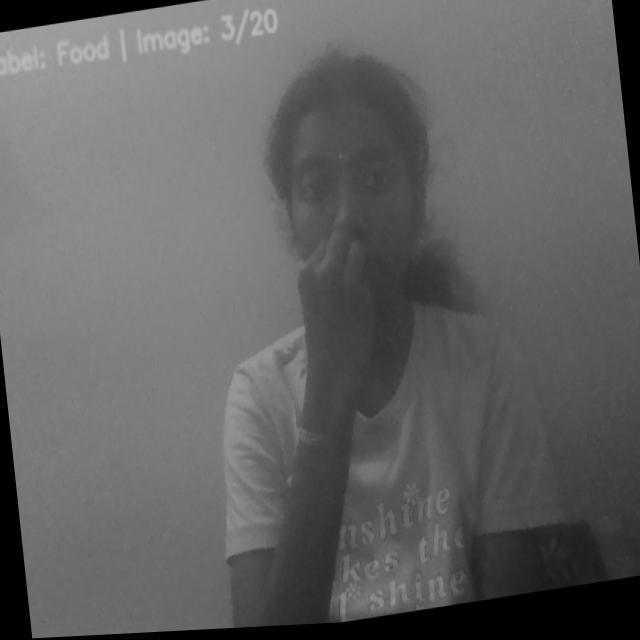Food: (282, 231, 389, 385)
